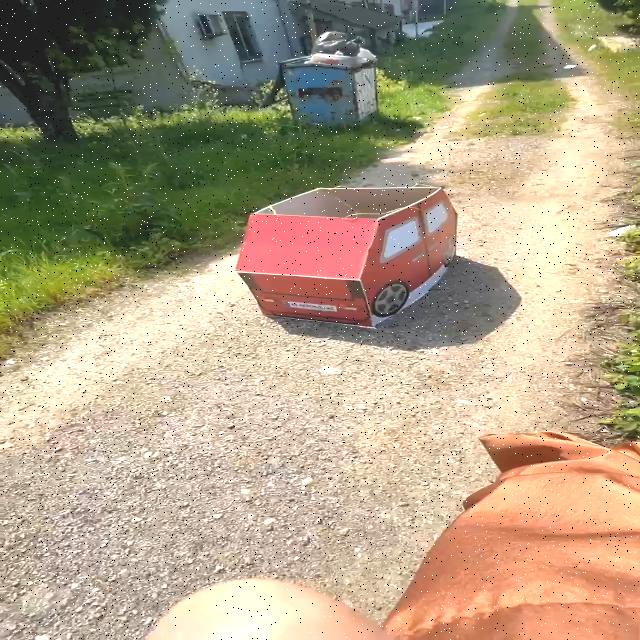red_car: (219, 174, 491, 360)
